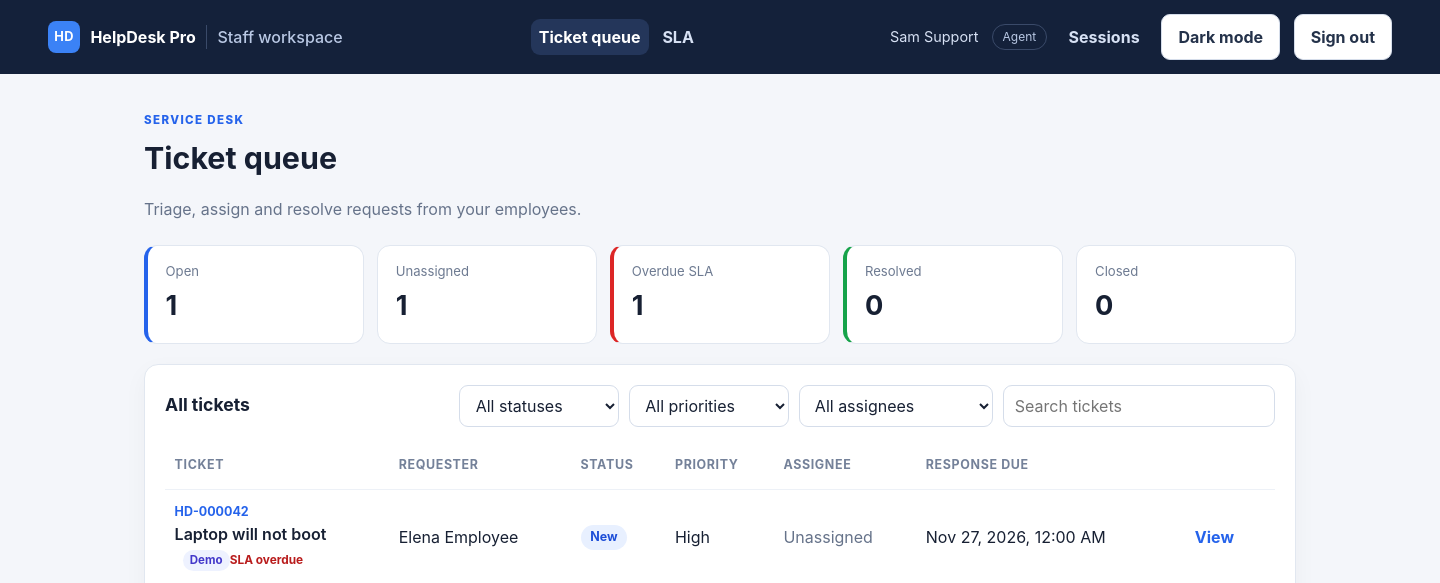
Test case: staff workspace › keeps a refresh failure visible instead of swallowing it behind a queue reload
Check: the text "HD-000042" is shown, box [175,504,249,519]
Click the button "View": point(1214, 537) [1187,519,1242,555]
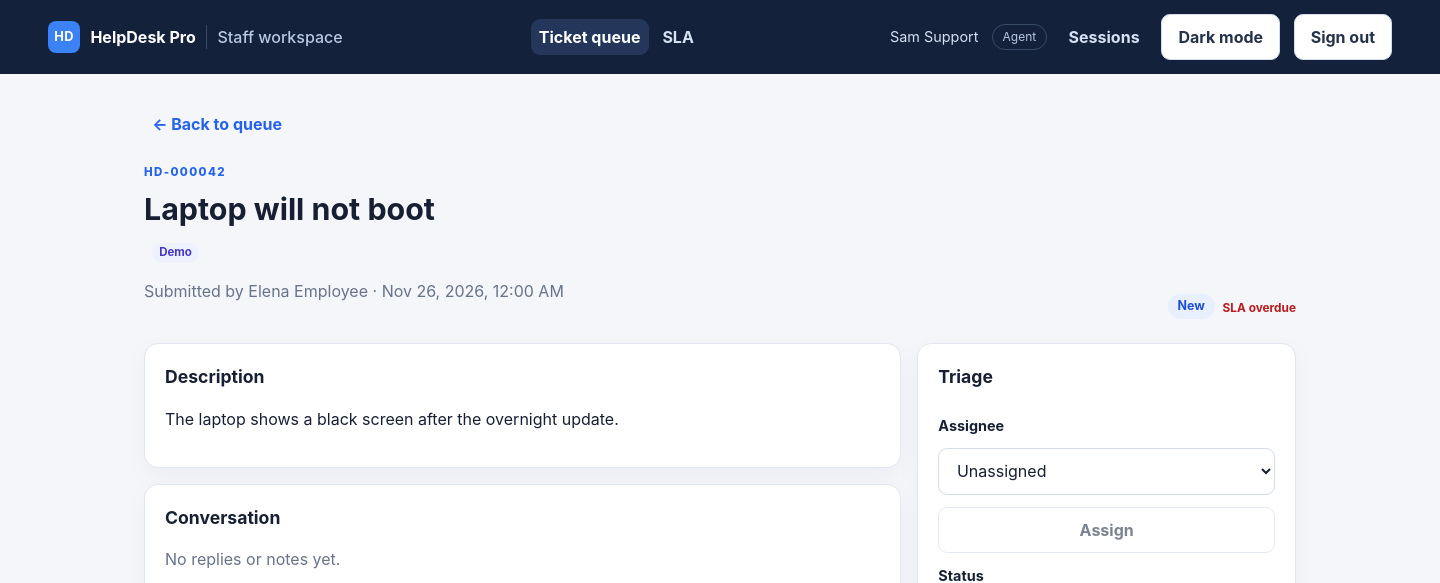
Select "Sam Support" in the dropdown labelled "Assignee": point(1107, 471) [938,448,1275,495]
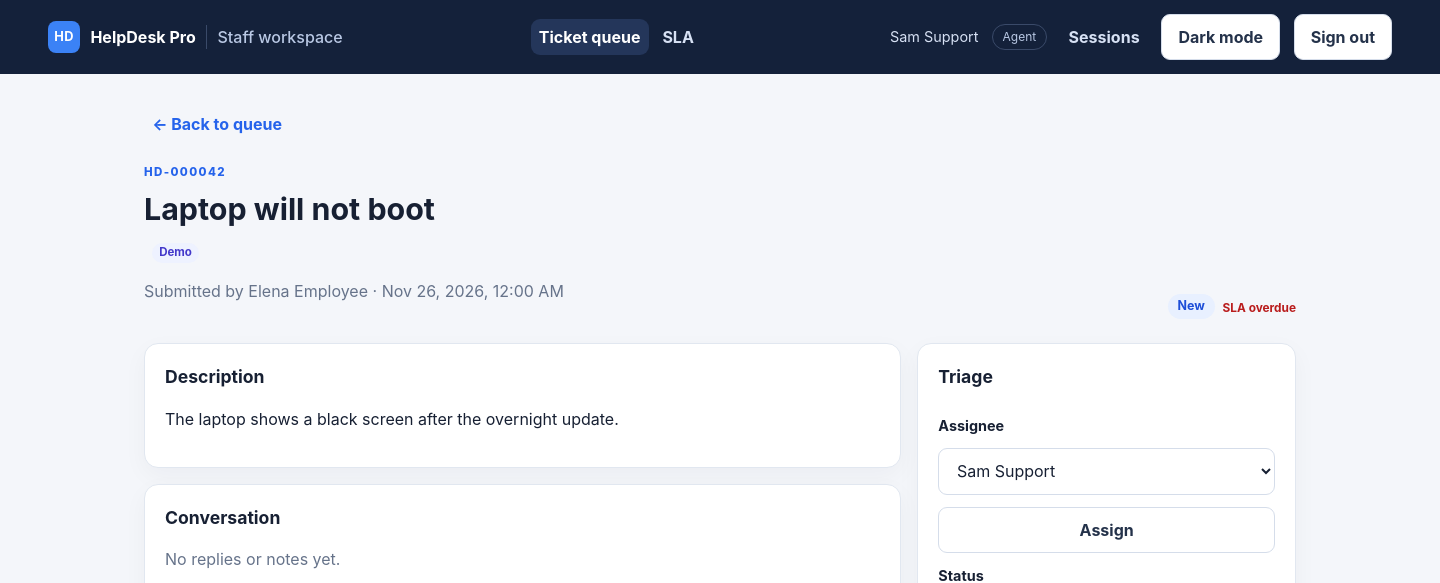
Click the button "Assign": point(1107, 530) [938,507,1275,553]
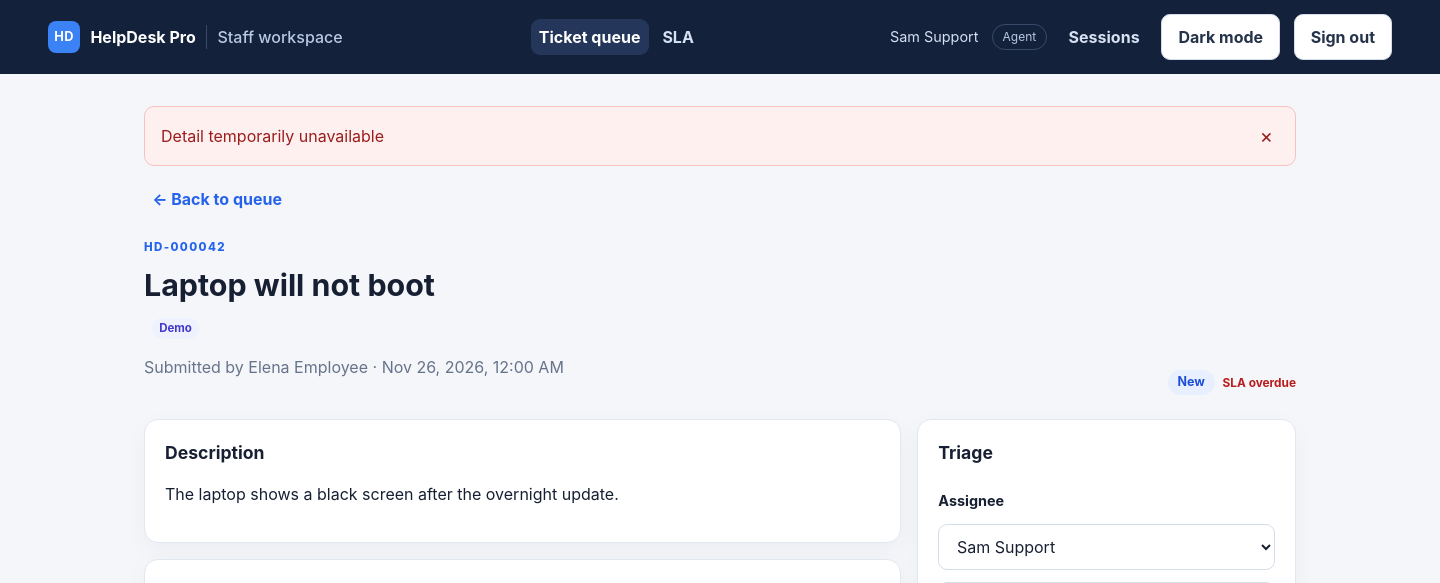
Check: the text "Detail temporarily unavailable" is shown, box [161,124,384,148]
